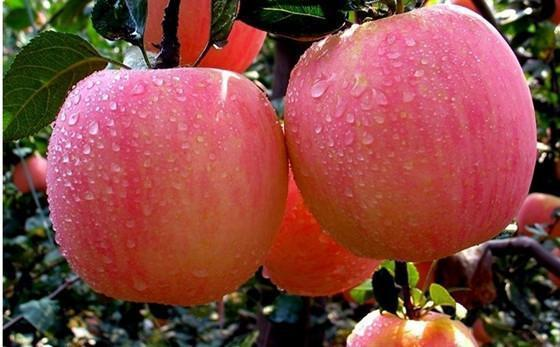apple: (287, 1, 539, 262), (48, 65, 288, 302), (345, 302, 482, 347)
